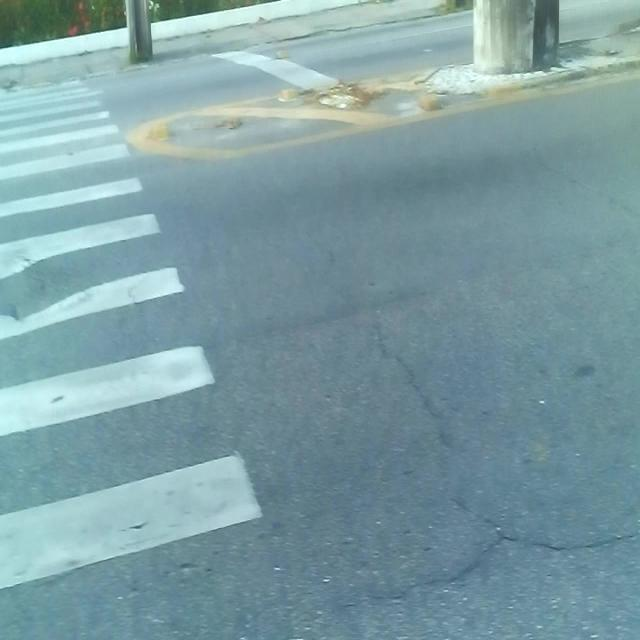crosswalk: (0, 76, 309, 640)
